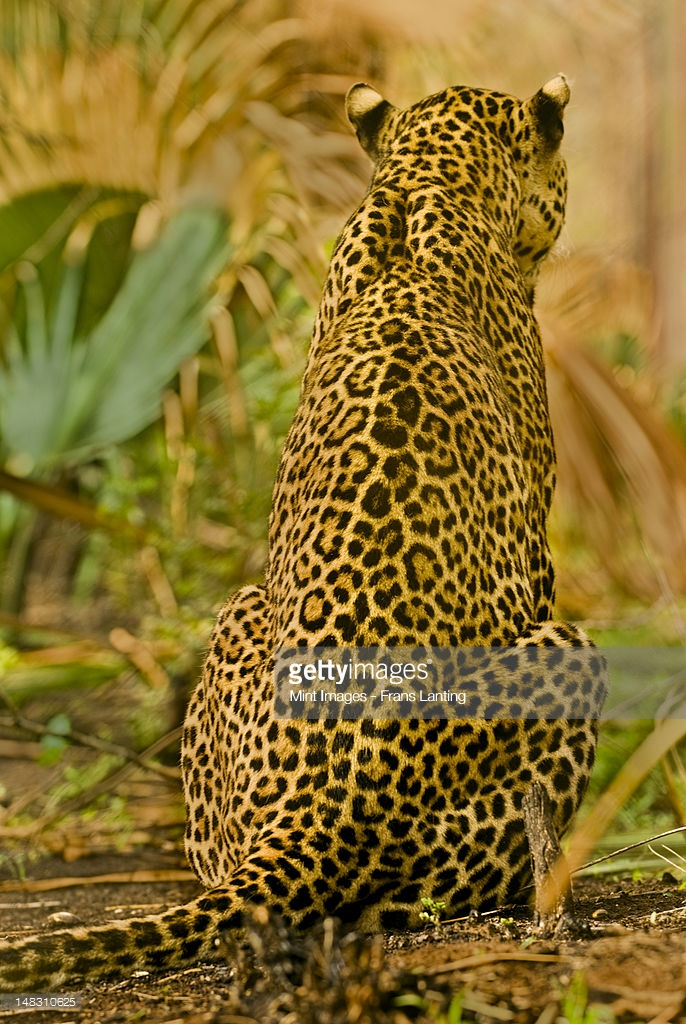leopard: (166, 68, 608, 952)
